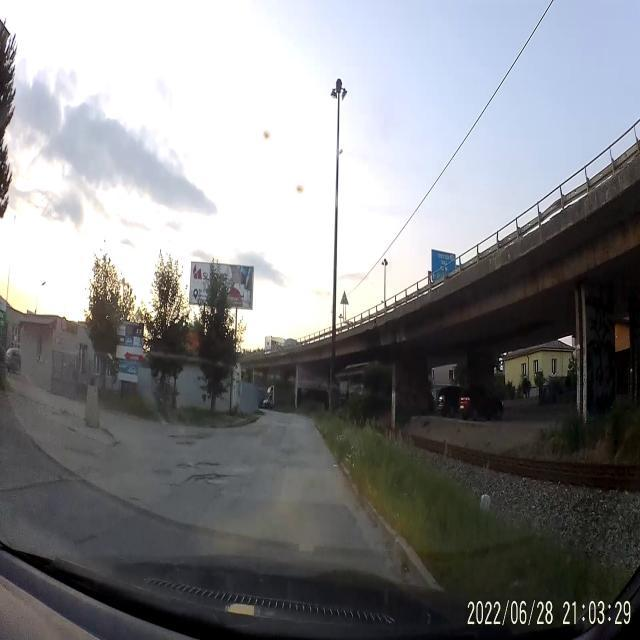Manhole: (150, 466, 172, 478), (204, 478, 223, 487)
Pothole: (185, 473, 208, 486), (196, 460, 222, 470), (176, 462, 196, 472), (176, 440, 196, 448)
